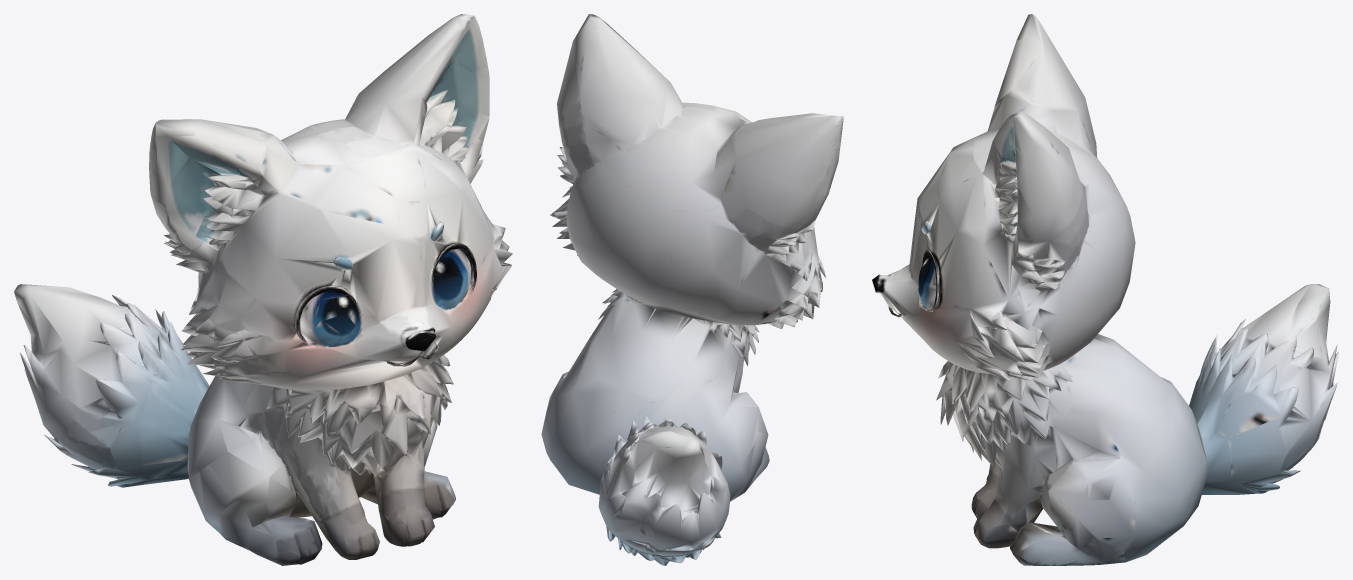
File: spirit_fox.glb
3 views of the same model, side by side, from view 1: azimuth 30°, elevation 25°; view 2: azimuth 150°, elevation 25°; view 3: azimuth 270°, elevation 25° (orthographic). The views are drawn at different scales.
Parts seen in each view (by area): view 1: node_0; view 2: node_0; view 3: node_0.
Boxes of the visible parts, x1,y1,x2,y2 form: node_0: (14,14,512,565); node_0: (541,14,843,565); node_0: (872,14,1338,565).
Bounding box in the file's own units: 0.691 × 0.9389 × 0.86.
1 material, 1 textured.
